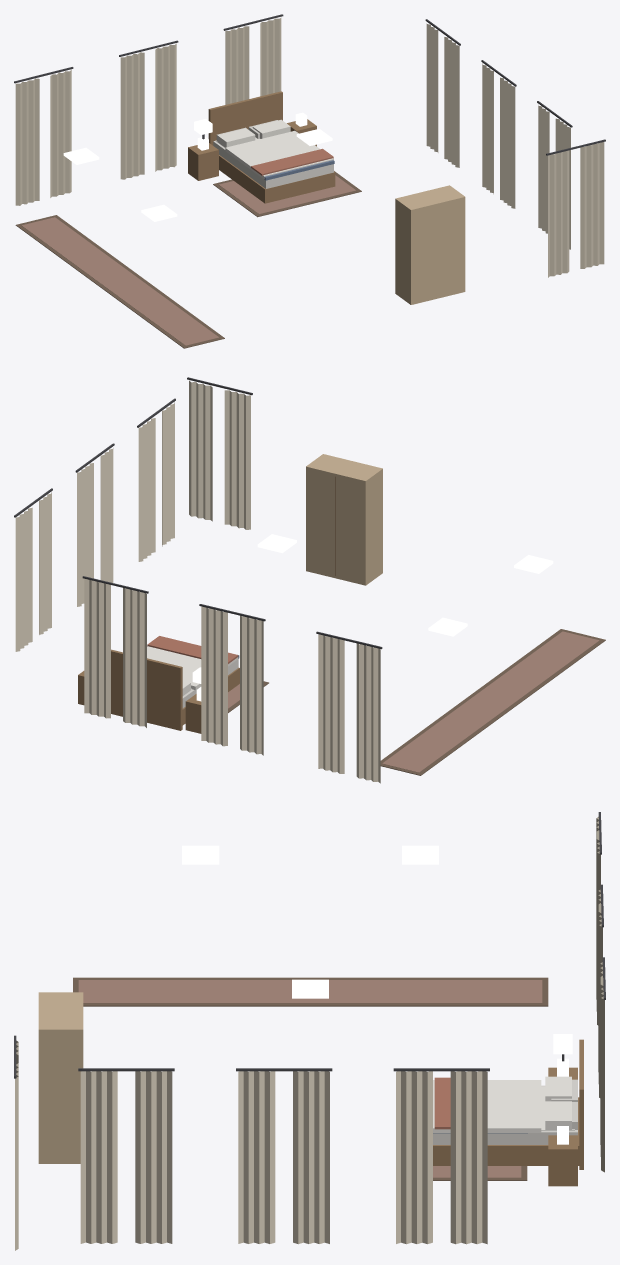
File: fine-s2.glb
3 views of the same model, one above another, from view 1: azimuth 30°, elevation 25°; view 2: azimuth 150°, elevation 25°; view 3: azimuth 270°, elevation 25° (orthographic). The views are drawn at different scales.
Parts seen in each view (by area): view 1: soft-s2, dresser.001, bed-frame.001, nightstand.002; view 2: soft-s2, dresser.001, bed-frame.001, nightstand.002; view 3: soft-s2, dresser.001, bed-frame.001, nightstand.003, ceiling-lamp.006, ceiling-lamp.005, ceiling-lamp.007.
Part boxes in pixels (<box>): soft-s2: <box>14,14,605,348</box>; dresser.001: <box>395,185,465,304</box>; bed-frame.001: <box>208,91,335,203</box>; nightstand.002: <box>188,137,218,180</box>; soft-s2: <box>14,377,605,783</box>; dresser.001: <box>306,454,382,585</box>; bed-frame.001: <box>111,649,239,730</box>; nightstand.002: <box>185,687,201,733</box>; soft-s2: <box>14,812,605,1250</box>; dresser.001: <box>38,992,83,1163</box>; bed-frame.001: <box>433,1039,583,1169</box>; nightstand.003: <box>548,1126,577,1186</box>; ceiling-lamp.006: <box>182,845,219,864</box>; ceiling-lamp.005: <box>402,845,438,864</box>; ceiling-lamp.007: <box>292,979,328,998</box>.
Size of the model in its own units: 8.83 by 2.66 by 8.
